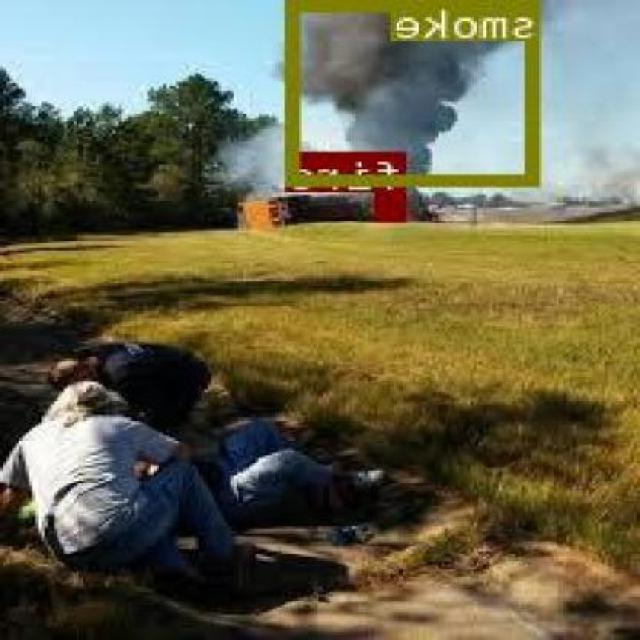Fire: (378, 192, 409, 218)
Smoke: (291, 0, 544, 182)
